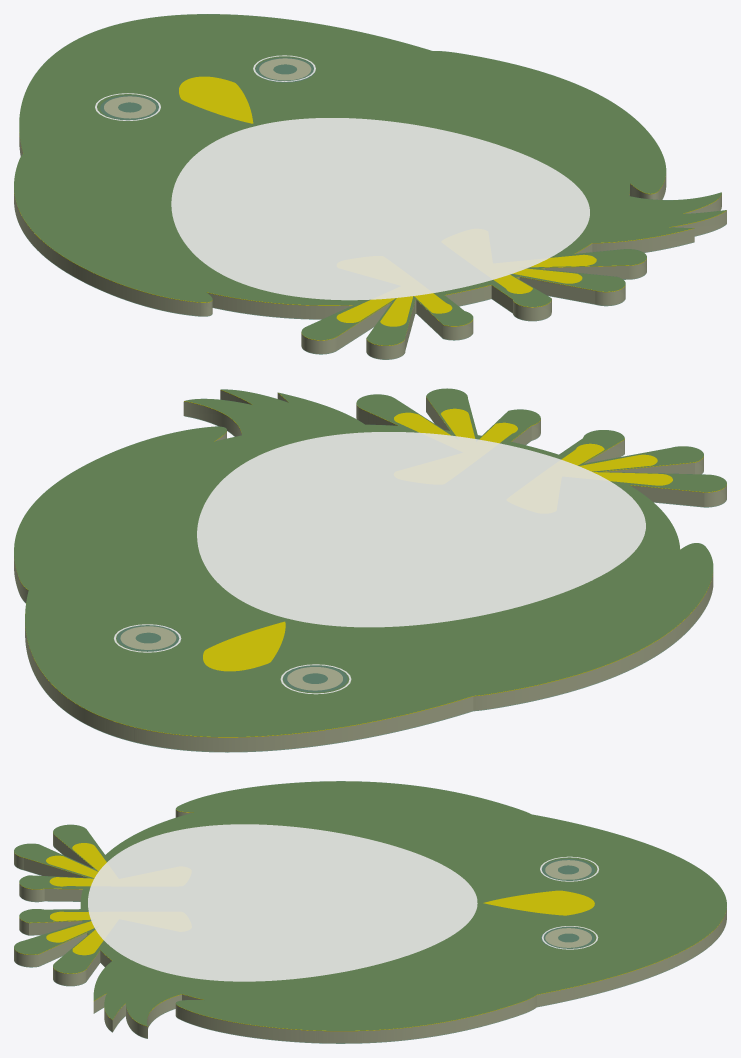
File: penguin-learn-to-solder-badge.glb
3 views of the same model, one above another, from view 1: azimuth 30°, elevation 25°; view 2: azimuth 150°, elevation 25°; view 3: azimuth 270°, elevation 25° (orthographic). The views are drawn at different scales.
Visible parts, largest first — view 1: =>[0:1:1:2], =>[0:1:1:6], =>[0:1:1:4], =>[0:1:1:8]; view 2: =>[0:1:1:2], =>[0:1:1:6], =>[0:1:1:4], =>[0:1:1:8]; view 3: =>[0:1:1:2], =>[0:1:1:6], =>[0:1:1:4], =>[0:1:1:8].
Part boxes in pixels (x1=…): =>[0:1:1:2]: x1=14, y1=14, x2=726, y2=345; =>[0:1:1:6]: x1=14, y1=14, x2=726, y2=359; =>[0:1:1:4]: x1=95, y1=55, x2=589, y2=300; =>[0:1:1:8]: x1=14, y1=58, x2=726, y2=359; =>[0:1:1:2]: x1=14, y1=389, x2=726, y2=737; =>[0:1:1:6]: x1=14, y1=388, x2=726, y2=752; =>[0:1:1:4]: x1=114, y1=432, x2=645, y2=694; =>[0:1:1:8]: x1=14, y1=390, x2=726, y2=751; =>[0:1:1:2]: x1=14, y1=782, x2=726, y2=1031; =>[0:1:1:6]: x1=14, y1=781, x2=726, y2=1043; =>[0:1:1:4]: x1=88, y1=824, x2=598, y2=981; =>[0:1:1:8]: x1=14, y1=809, x2=726, y2=1043.
Size of the model in its own units: 0.067 by 0.00166 by 0.0808.
Materials: 4 (4 with a texture image).
